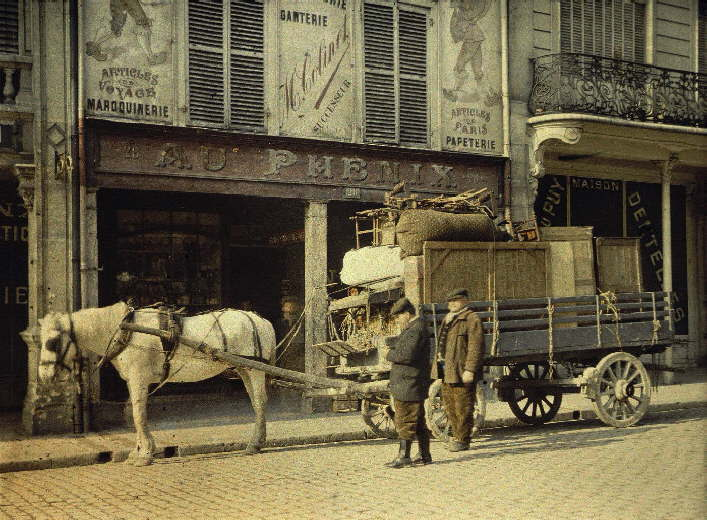horse: (37, 301, 276, 467)
